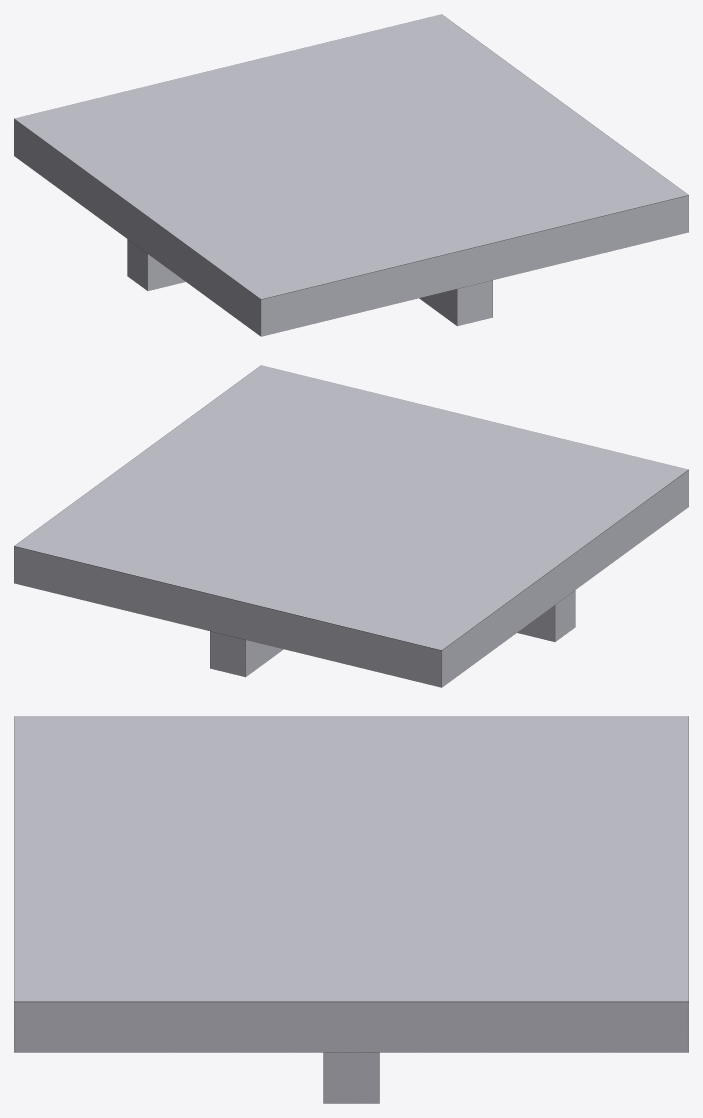
The model's file is Roof_Normal_01.FBX.
3 views of the same model, one above another, from view 1: azimuth 30°, elevation 25°; view 2: azimuth 150°, elevation 25°; view 3: azimuth 270°, elevation 25° (orthographic). The views are drawn at different scales.
Visible parts, largest first — view 1: Roof_Normal_01; view 2: Roof_Normal_01; view 3: Roof_Normal_01.
Boxes of the visible parts, x1,y1,x2,y2 form: Roof_Normal_01: (14, 14, 688, 336); Roof_Normal_01: (14, 365, 688, 687); Roof_Normal_01: (14, 716, 688, 1103).
Size of the model in its own units: 12 by 2 by 12.
1 material, 1 textured.
